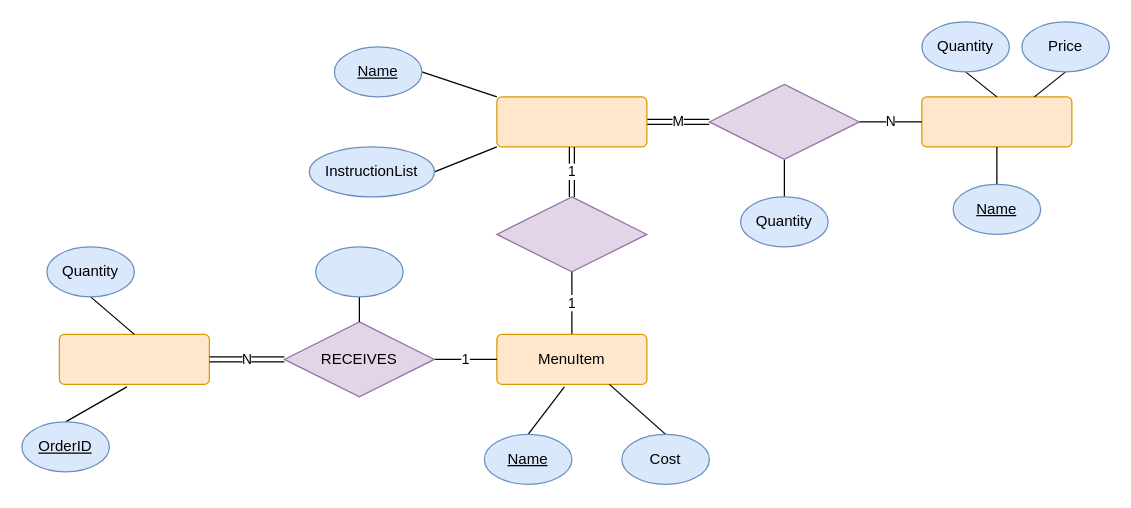
Image size: 1131x508. Some labels were removed from this diagram. The box of each missing label's shape, as (x1, y1, x2, y2) in pixels:
HAS: (496, 196, 647, 272)
Ingredient: (921, 96, 1072, 147)
Order: (58, 333, 209, 384)
Recipe: (496, 96, 647, 147)
REQUIRES: (708, 83, 859, 159)
Timestamp: (314, 246, 403, 297)
